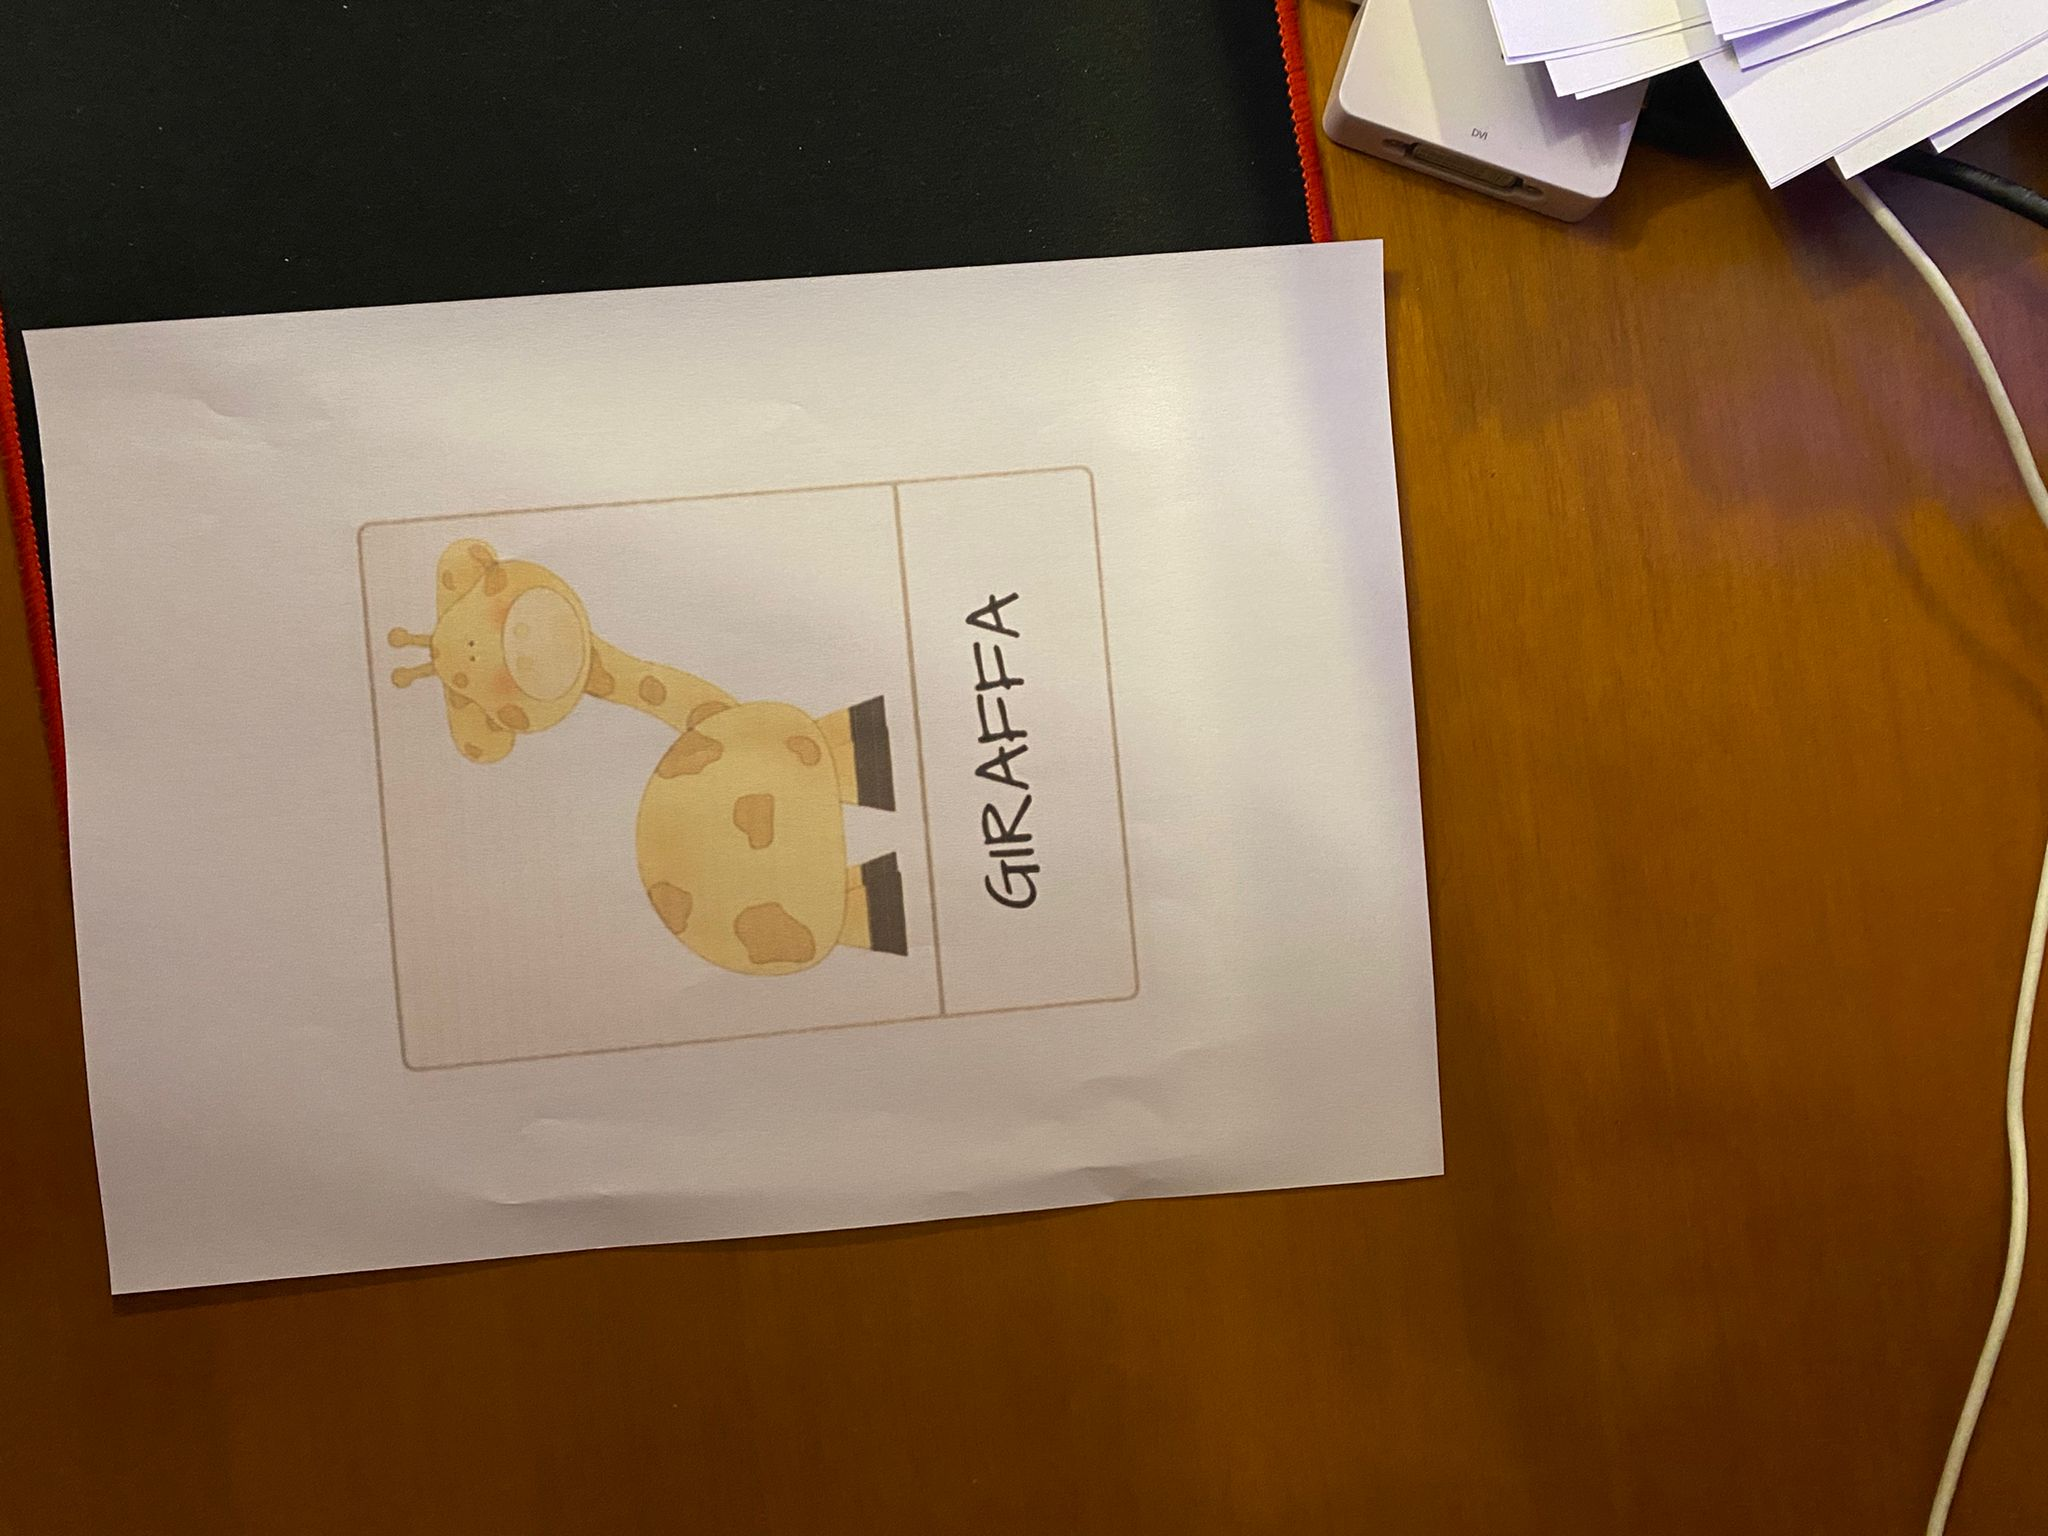giraffa: (355, 527, 1123, 1006)
